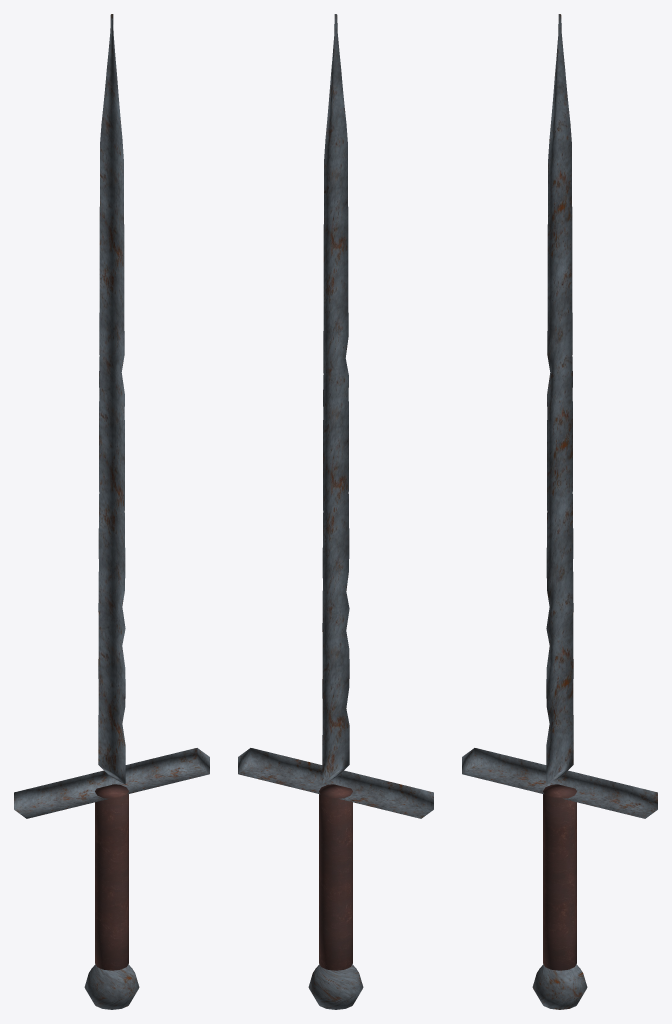
File: it_sword_old.glb
3 views of the same model, side by side, from view 1: azimuth 30°, elevation 25°; view 2: azimuth 150°, elevation 25°; view 3: azimuth 330°, elevation 25° (orthographic).
Parts seen in each view (by area): view 1: it_sword_old_lod0; view 2: it_sword_old_lod0; view 3: it_sword_old_lod0.
Part boxes in pixels (x1,y1,x2,y2): it_sword_old_lod0: (14, 14, 209, 1009); it_sword_old_lod0: (238, 14, 433, 1009); it_sword_old_lod0: (462, 14, 657, 1009).
Size of what is drawn, in the model's own units: 0.2 by 1.03 by 0.052.
Materials: 2 (2 with a texture image).
